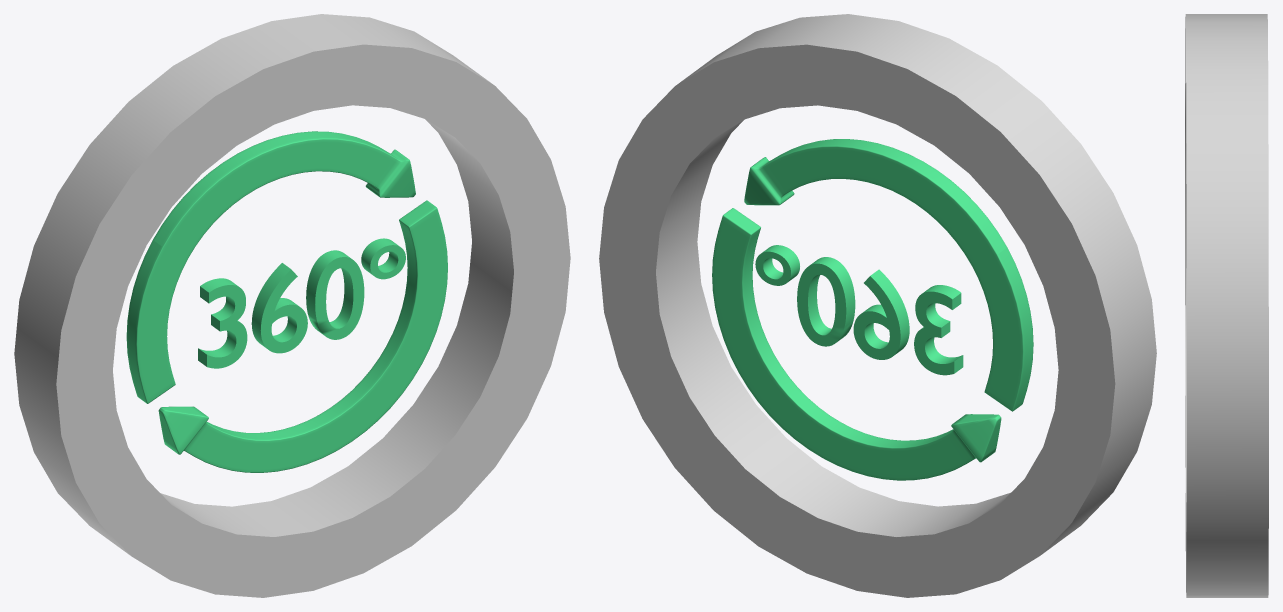
The model's file is sign360.gltf.
The picture shows the model from 3 angles, left to right: view 1: azimuth 30°, elevation 25°; view 2: azimuth 150°, elevation 25°; view 3: azimuth 270°, elevation 25°; orthographic projection.
Visible parts, largest first — view 1: 360; view 2: 360; view 3: 360.
Part boxes in pixels (x1,y1,x2,y2): 360: [14, 14, 570, 597]; 360: [599, 14, 1156, 597]; 360: [1185, 14, 1268, 597].
Size of the model in its own units: 25.21 by 25.2 by 3.62.
